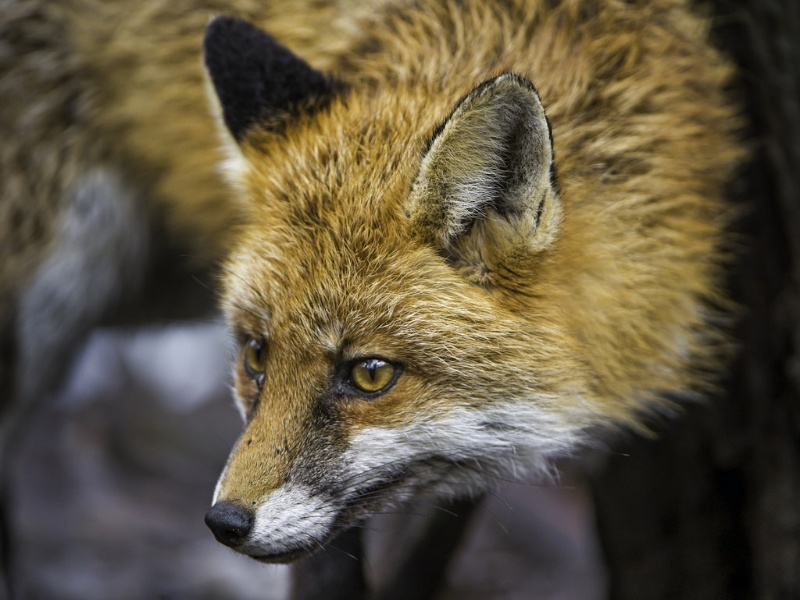fox: (1, 5, 750, 580)
